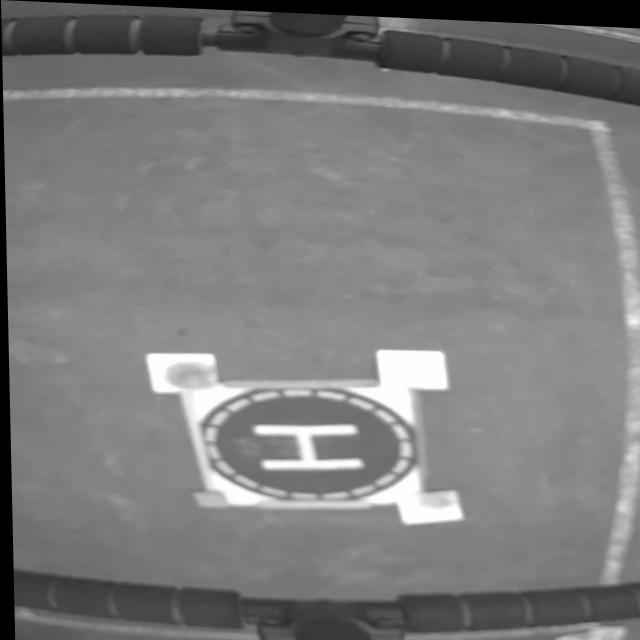Helipad: (249, 419, 362, 468)
